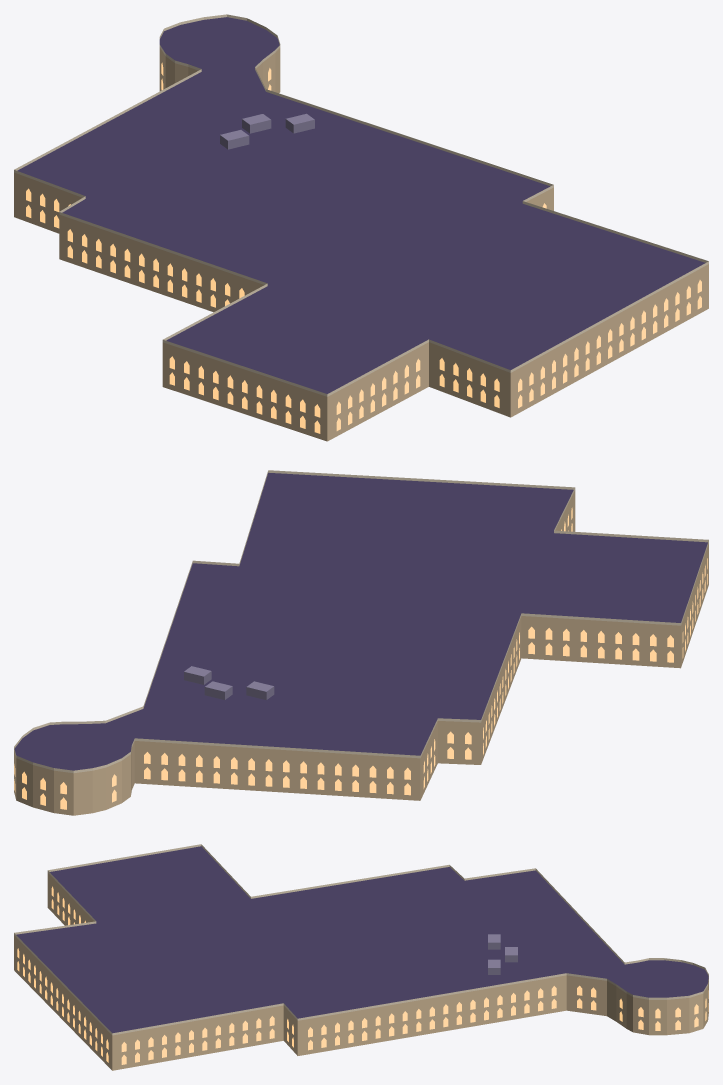
3 renders of one model, top to bottom at view 1: azimuth 30°, elevation 25°; view 2: azimuth 150°, elevation 25°; view 3: azimuth 270°, elevation 25°, orthographic. The views are drawn at different scales.
Parts seen in each view (by area): view 1: campus/b-046-0; view 2: campus/b-046-0; view 3: campus/b-046-0.
Part boxes in pixels (x1,y1,x2,y2): campus/b-046-0: [14, 14, 708, 441]; campus/b-046-0: [14, 470, 708, 815]; campus/b-046-0: [14, 844, 708, 1070].
Bounding box in the file's own units: 104 × 10.9 × 162.
